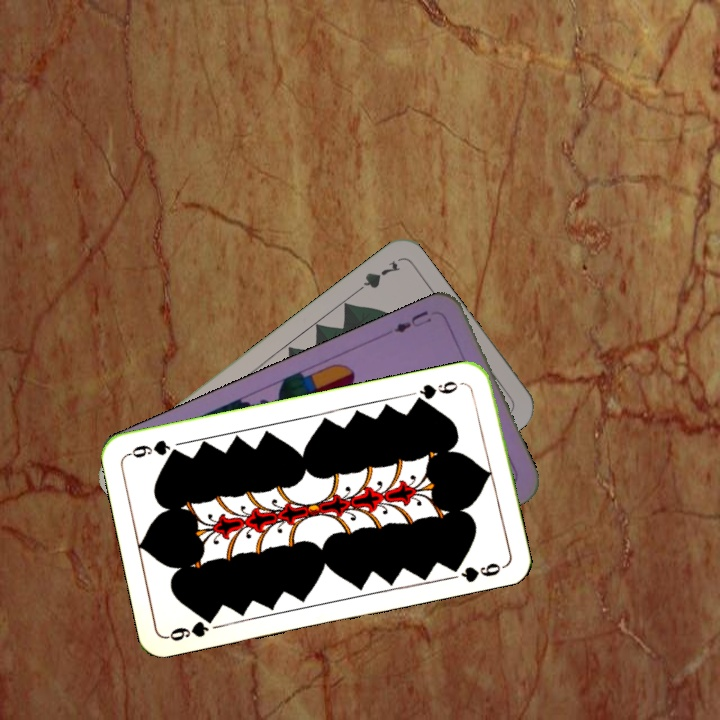EU: (389, 306, 434, 335)
G7: (349, 256, 403, 298)
G9: (163, 610, 219, 644), (411, 377, 468, 406)
